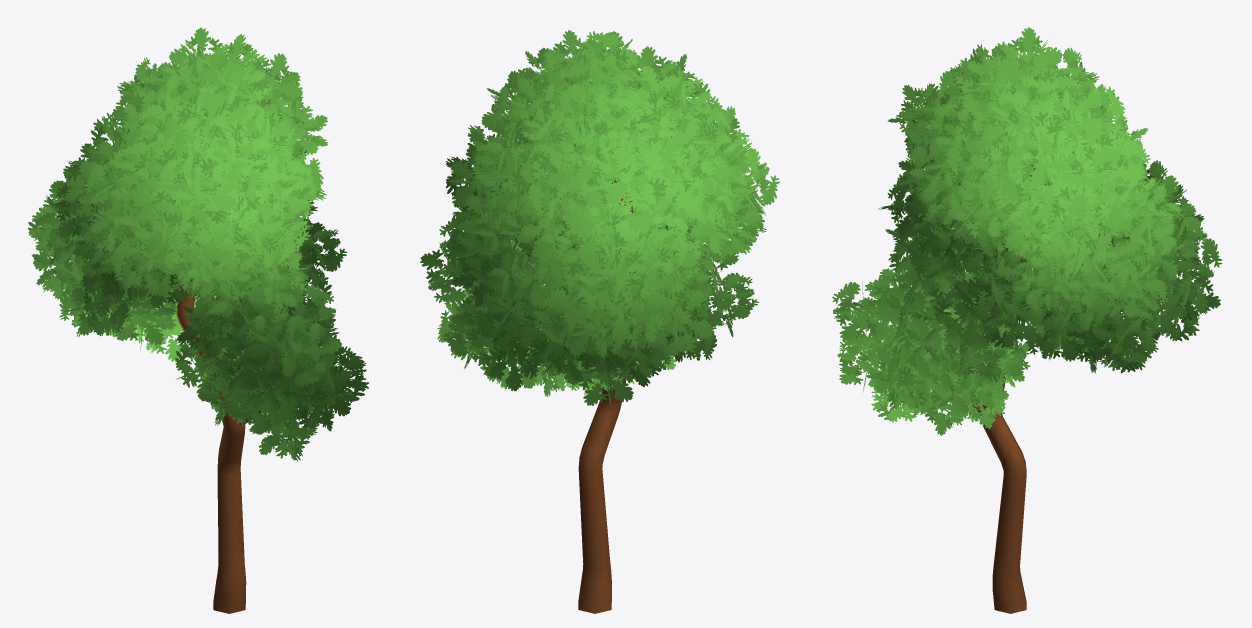
File: st-oak-1.glb
The picture shows the model from 3 angles, left to right: view 1: azimuth 30°, elevation 25°; view 2: azimuth 150°, elevation 25°; view 3: azimuth 270°, elevation 25°; orthographic projection. The views are drawn at different scales.
Parts seen in each view (by area): view 1: STOak1; view 2: STOak1; view 3: STOak1.
Boxes of the visible parts, left/top/right/bottom form: STOak1: left=27, top=27, right=368, bottom=613; STOak1: left=420, top=30, right=779, bottom=613; STOak1: left=832, top=27, right=1222, bottom=613.
Size of the model in its own units: 11.63 by 21.8 by 14.23.
2 materials, 2 textured.
